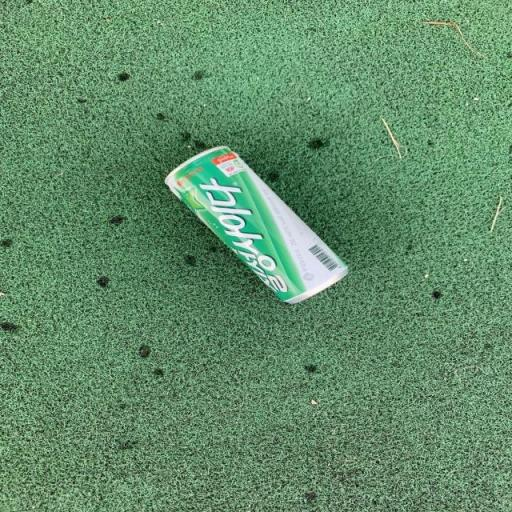metal: (144, 130, 374, 321)
